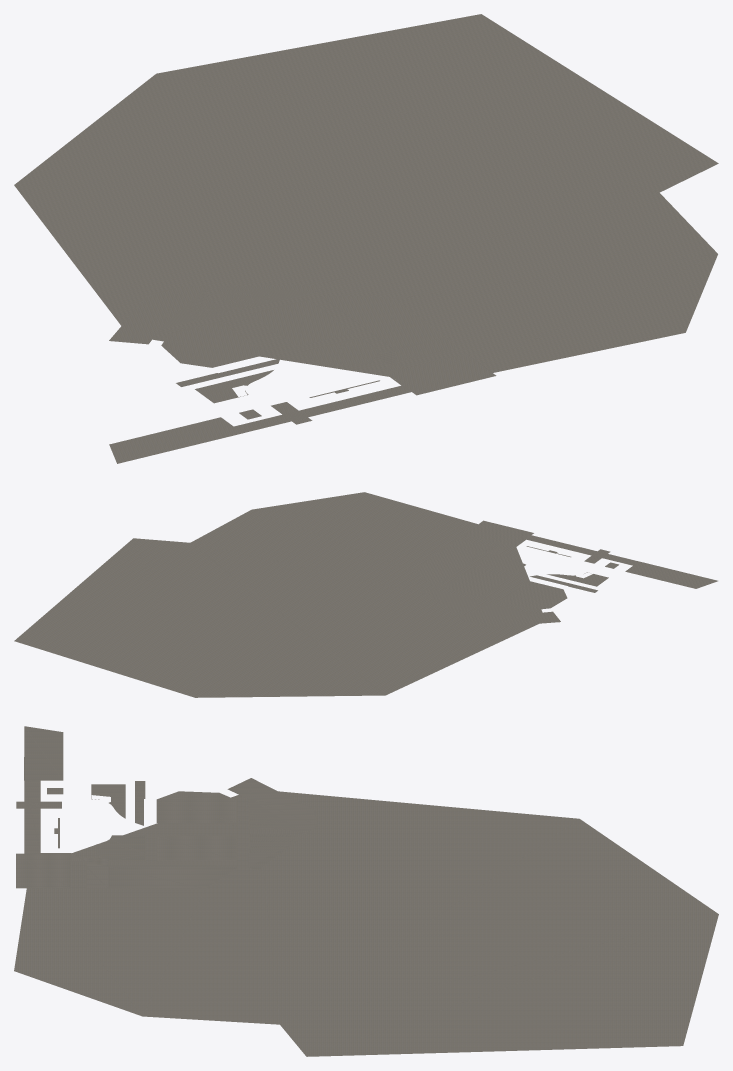
Rendered from west_bg.FBX.
The picture shows the model from 3 angles, top to bottom: view 1: azimuth 30°, elevation 25°; view 2: azimuth 150°, elevation 25°; view 3: azimuth 270°, elevation 25°; orthographic projection. The views are drawn at different scales.
Parts seen in each view (by area): view 1: ta09_plane, bg15_22; view 2: ta09_plane, bg15_22; view 3: ta09_plane, bg15_22.
Part boxes in pixels (x1,y1,x2,y2): ta09_plane: (14, 14, 718, 376); bg15_22: (109, 285, 496, 463); ta09_plane: (14, 492, 542, 697); bg15_22: (415, 520, 717, 627); ta09_plane: (14, 791, 718, 1056); bg15_22: (16, 726, 317, 888).
Size of the model in its own units: 1952 by 4.78 by 1768.
